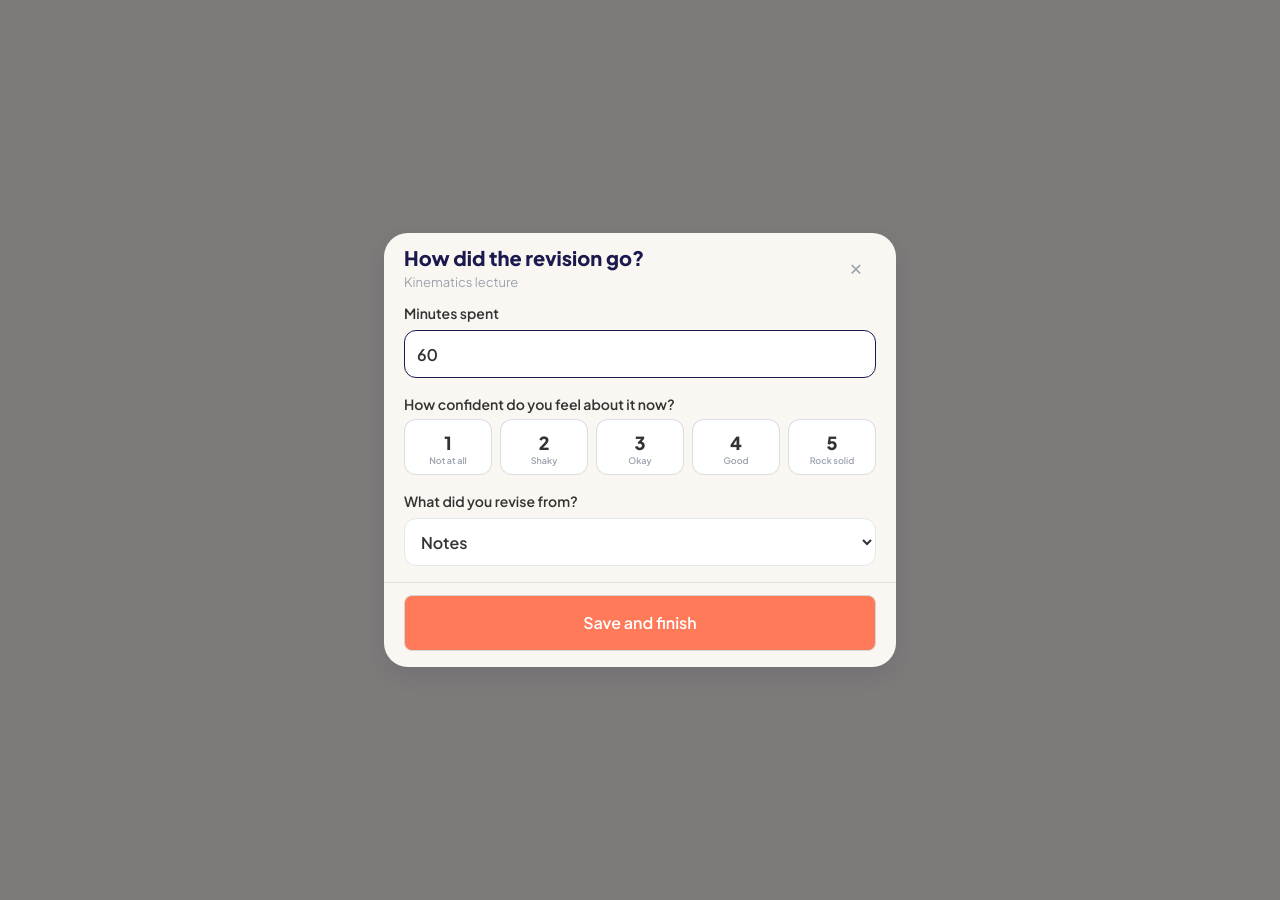
Test: QuickLogSheet — G6 manual completion › after a timer the older fields are unchanged: confidence 1-5 for a revision
Click the button with test id "log-save" at point(640, 623), box left=404, top=595, right=876, bottom=651
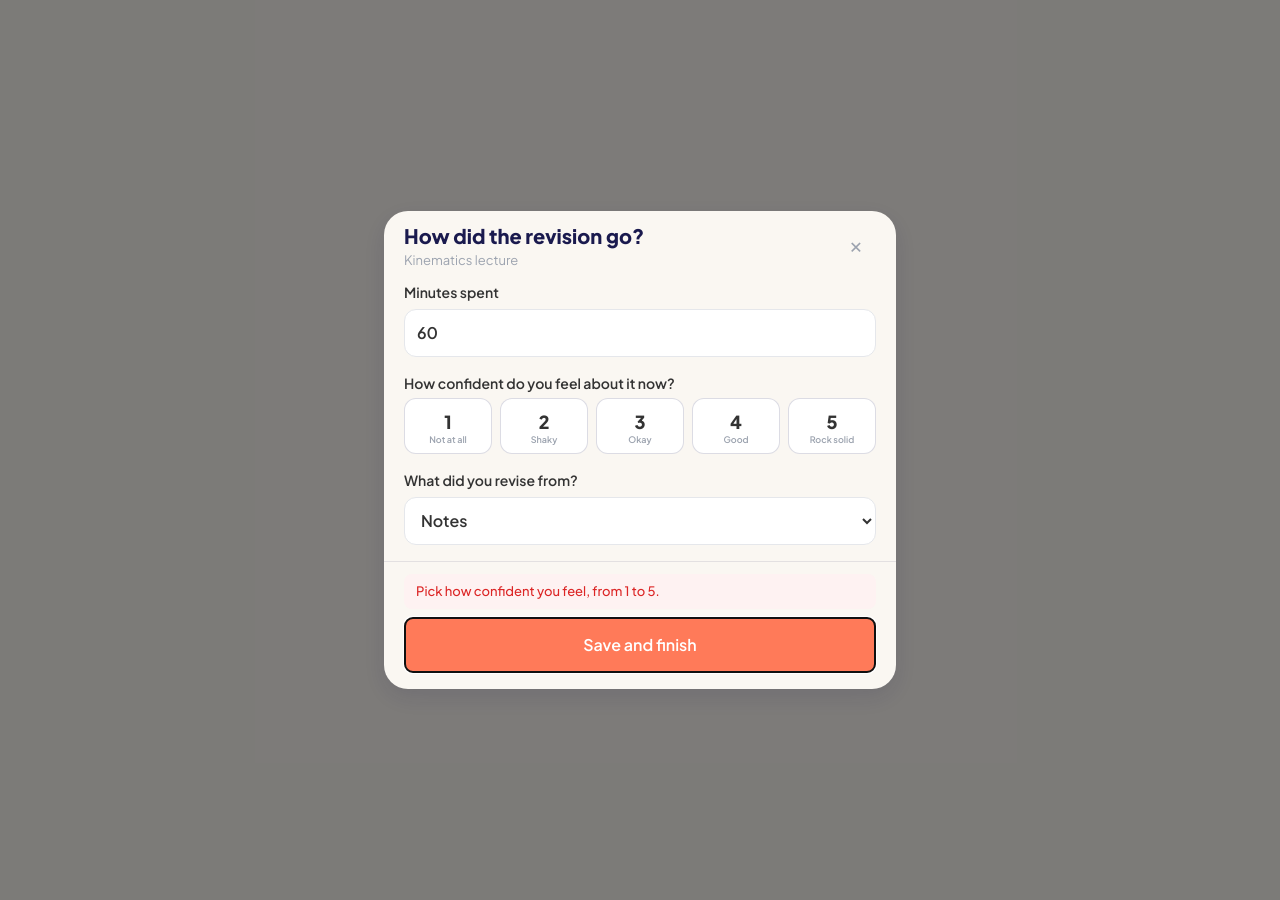
Expected: the message shows "Pick how confident you feel", left=416, top=583, right=660, bottom=599
